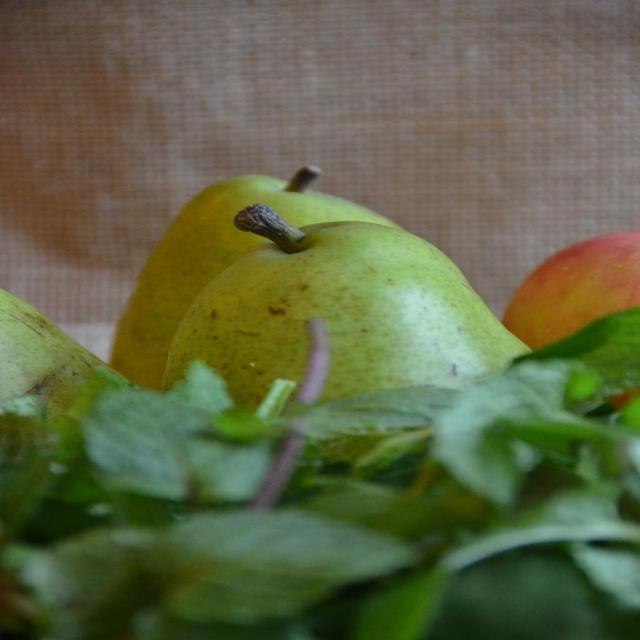pear: (154, 215, 537, 397), (108, 171, 406, 391), (0, 286, 154, 450)
